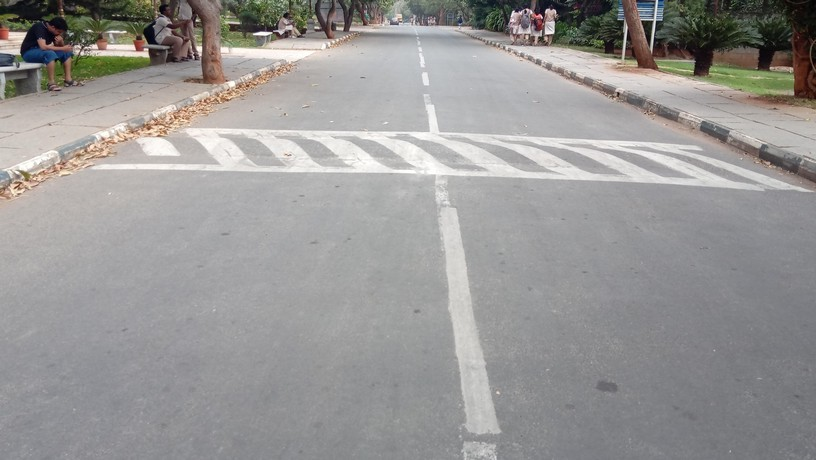bump: (128, 129, 778, 190)
